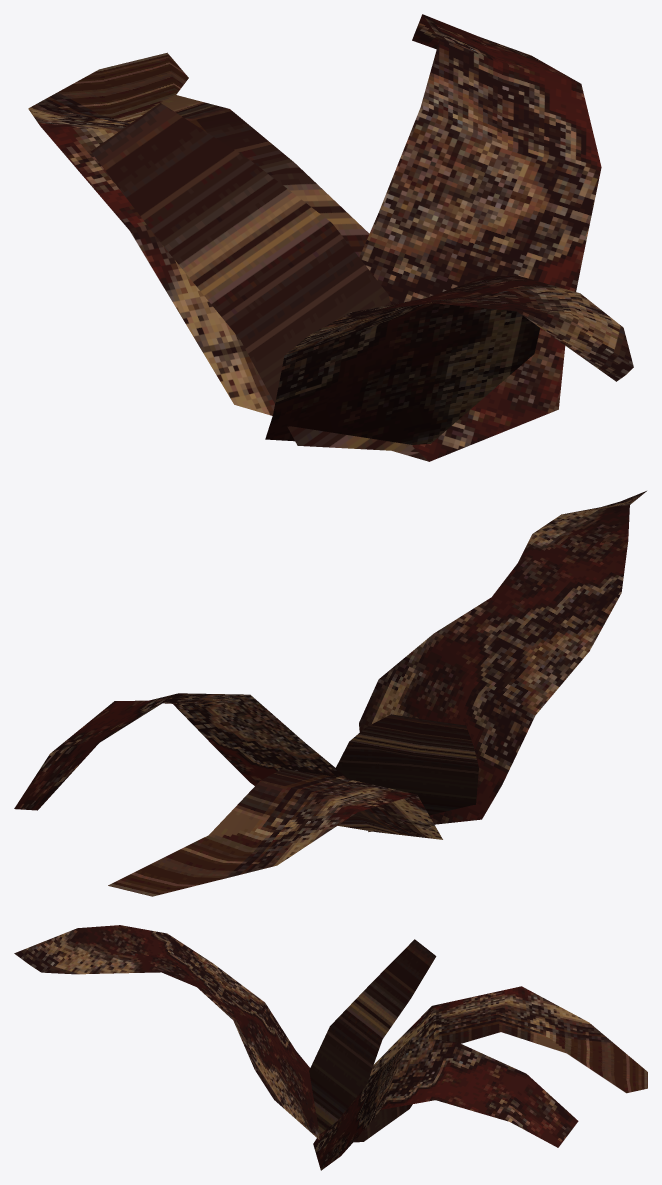
The model's file is forest_pap_doublesided_02.fbx.
3 renders of one model, top to bottom at view 1: azimuth 30°, elevation 25°; view 2: azimuth 150°, elevation 25°; view 3: azimuth 270°, elevation 25°, orthographic. The views are drawn at different scales.
Visible parts, largest first — view 1: polySurface76; view 2: polySurface76; view 3: polySurface76.
Part boxes in pixels (<box>): polySurface76: <box>28,14,633,461</box>; polySurface76: <box>14,491,646,896</box>; polySurface76: <box>14,925,647,1170</box>.
Bounding box in the file's own units: 36.94 × 23.42 × 74.91.
